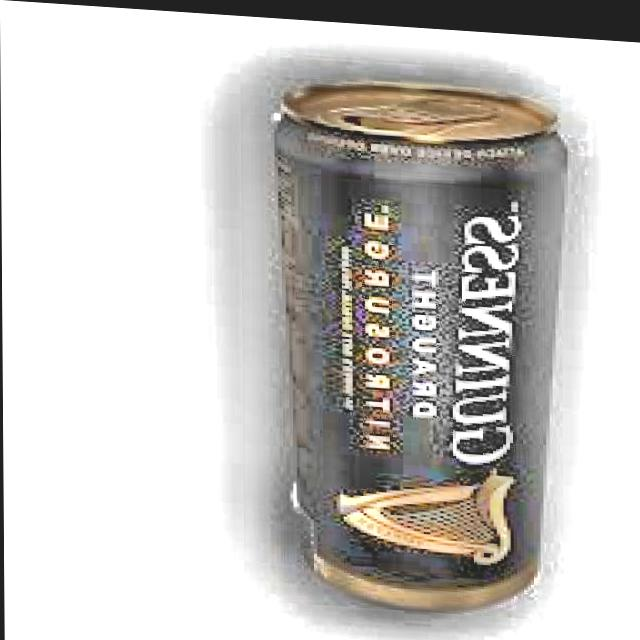can: (265, 61, 577, 623)
